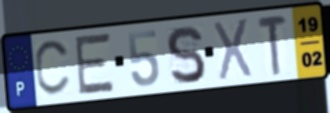5: (126, 28, 161, 89)
C: (33, 38, 73, 99)
E: (74, 31, 117, 98)
S: (164, 24, 208, 87)
T: (256, 14, 290, 78)
X: (212, 15, 254, 82)
